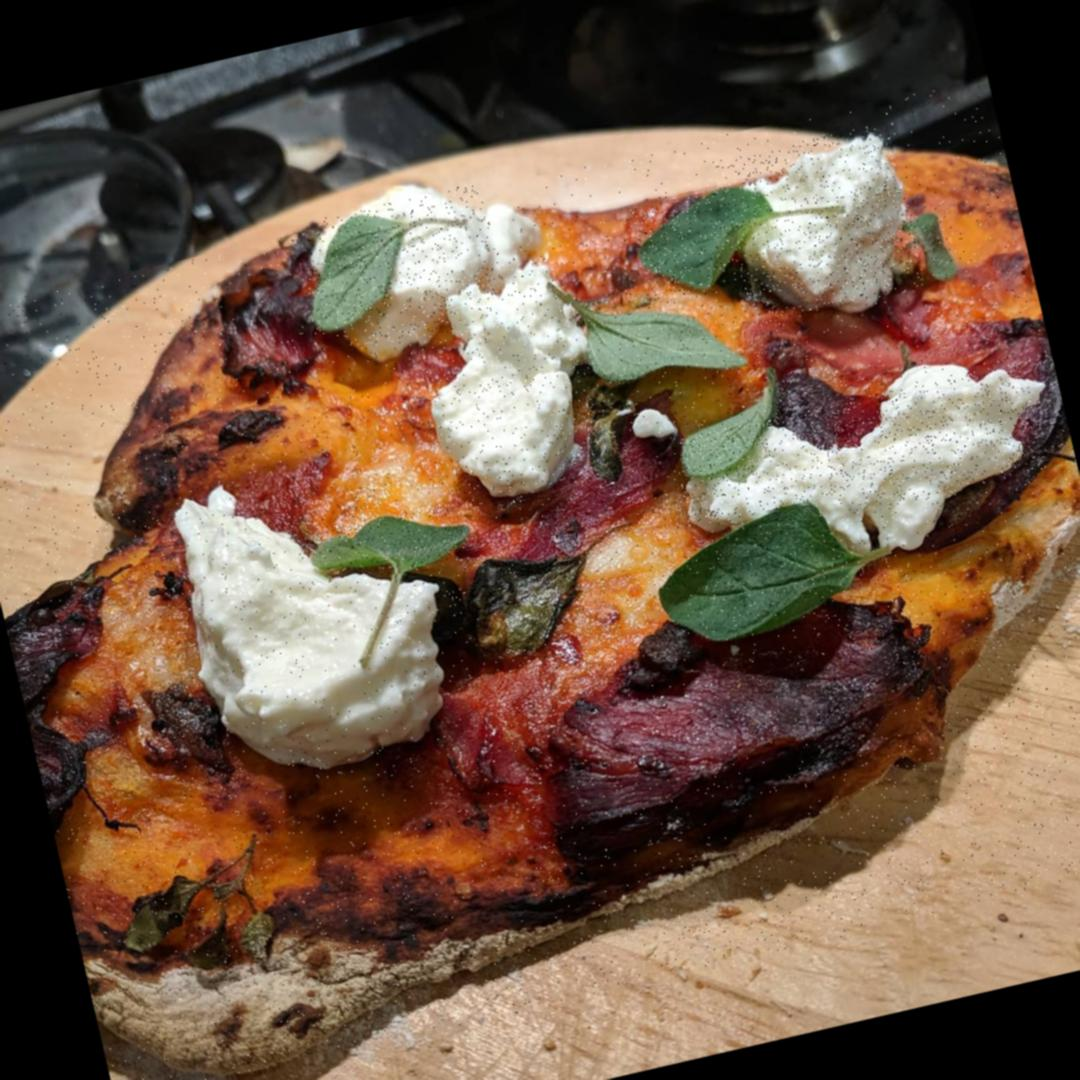Basil: (650, 494, 876, 652), (570, 262, 750, 402), (629, 176, 788, 303), (290, 212, 424, 342), (308, 494, 481, 590), (908, 206, 967, 296)
Cheese: (164, 447, 472, 799), (669, 360, 1048, 552), (404, 256, 610, 510), (711, 122, 925, 328), (317, 181, 512, 354)
Pizza: (0, 74, 1080, 1080)
